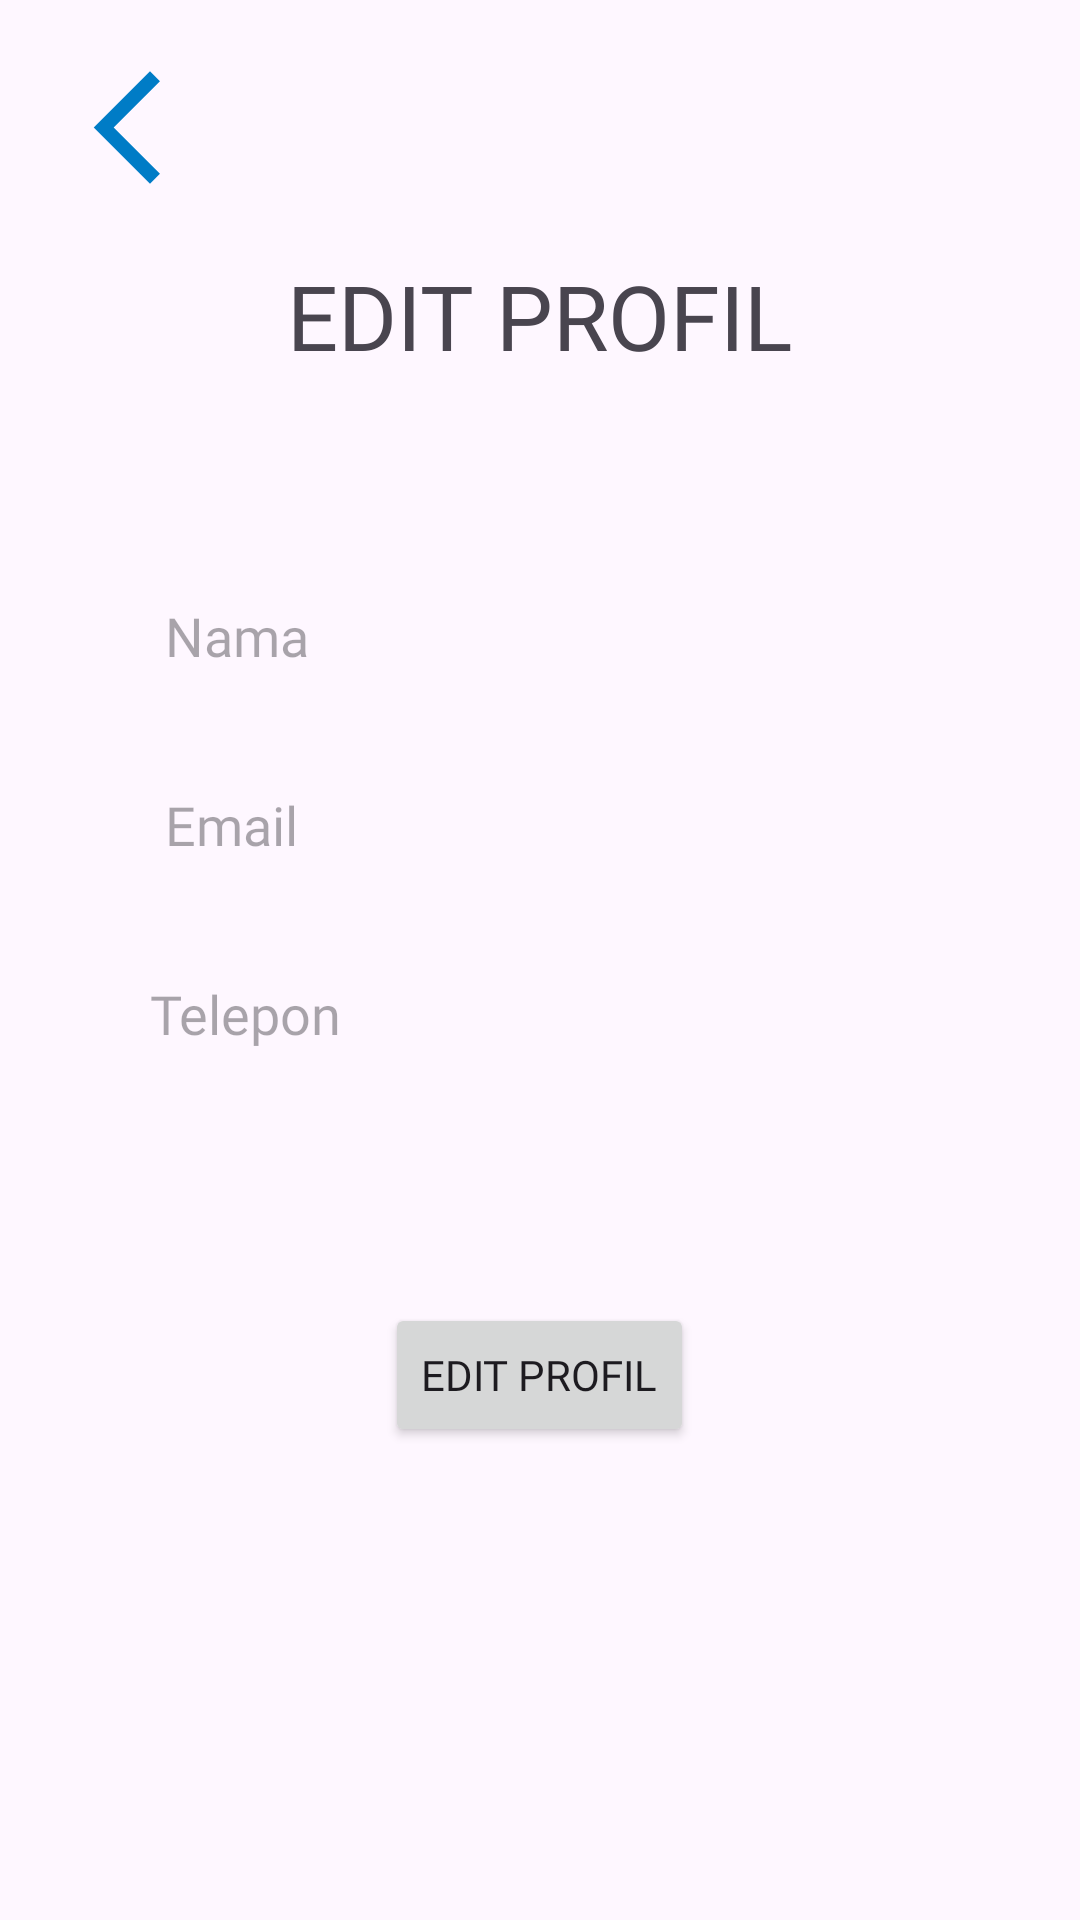

Locate icon controls on the screen. Image size 1080px×1920px, boxes as (x1=x1, y1=y1, x2=x2, y2=y2).
back: (x1=94, y1=71, x2=160, y2=184)
